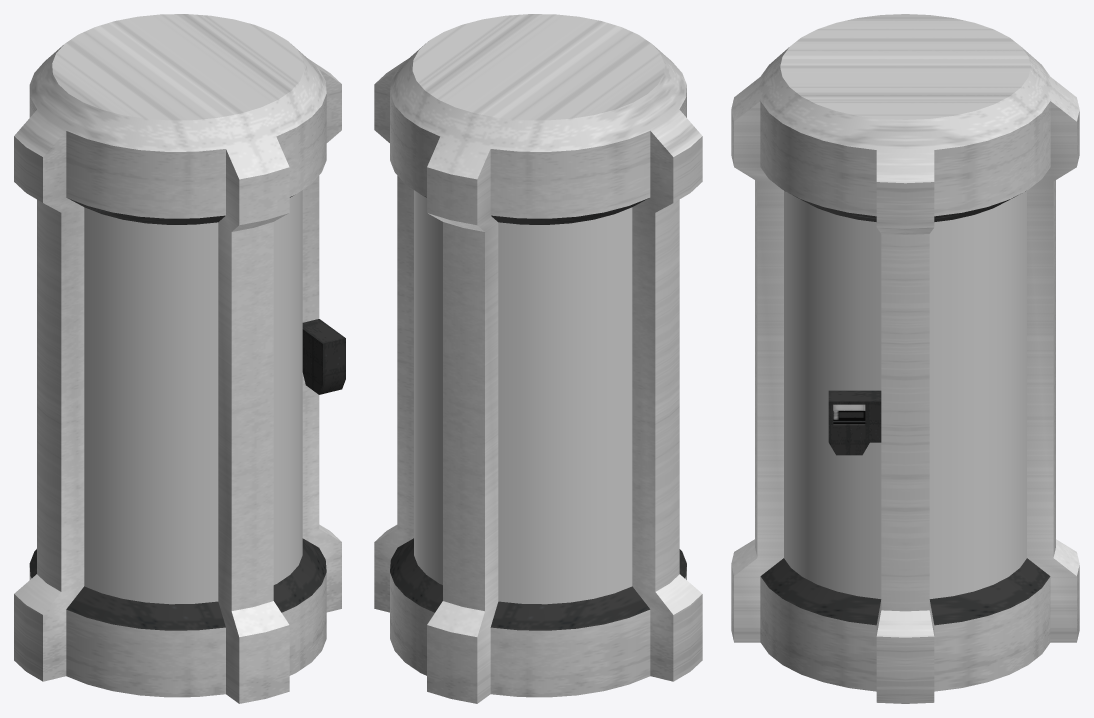
3 renders of one model, left to right at view 1: azimuth 30°, elevation 25°; view 2: azimuth 150°, elevation 25°; view 3: azimuth 270°, elevation 25°, orthographic.
Parts seen in each view (by area): view 1: Tube, Glass; view 2: Tube, Glass; view 3: Tube, Glass, Screen.
Part boxes in pixels (bbox=[...]): Tube: bbox=[14, 14, 345, 703]; Glass: bbox=[84, 190, 302, 604]; Tube: bbox=[374, 14, 702, 703]; Glass: bbox=[414, 190, 632, 604]; Tube: bbox=[731, 14, 1079, 703]; Glass: bbox=[784, 191, 1026, 598]; Screen: bbox=[833, 404, 865, 423].
Bounding box in the file's own units: 362 × 645 × 362.
